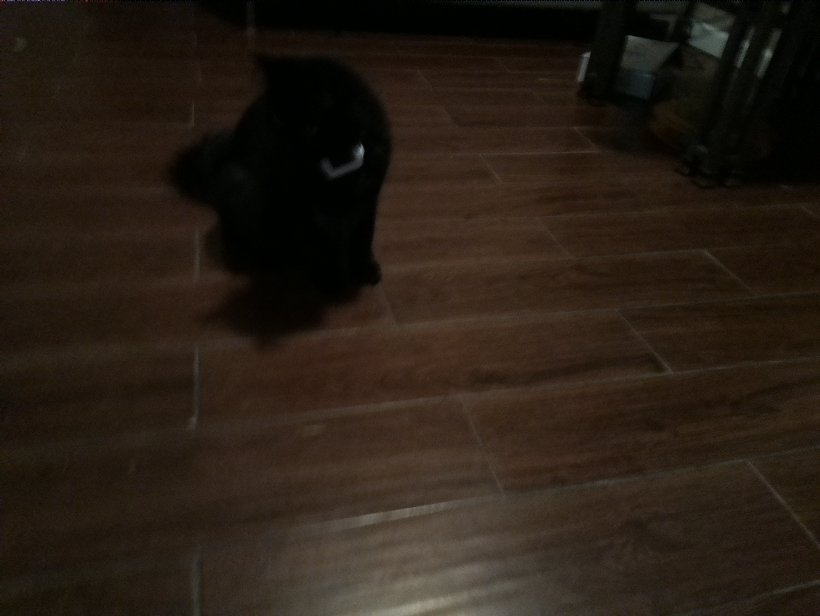cat: (160, 49, 402, 337)
